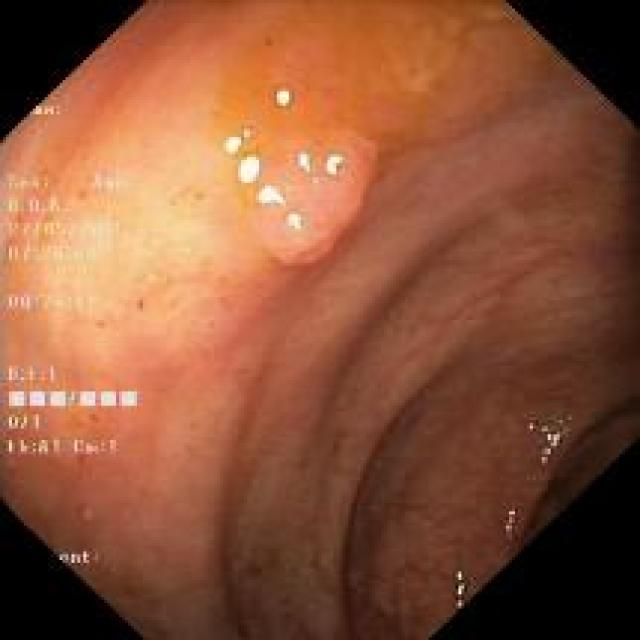Polyps: (237, 130, 375, 264)
